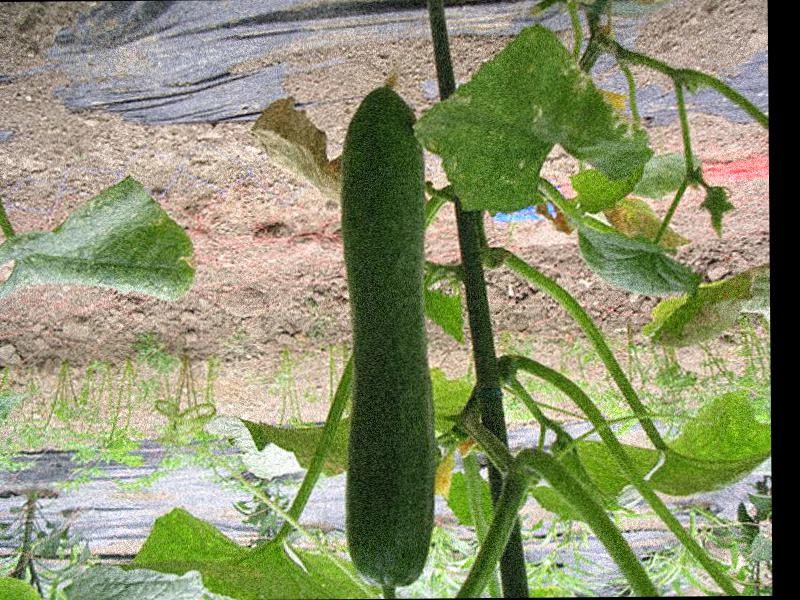Cucumber: (340, 73, 437, 587)
